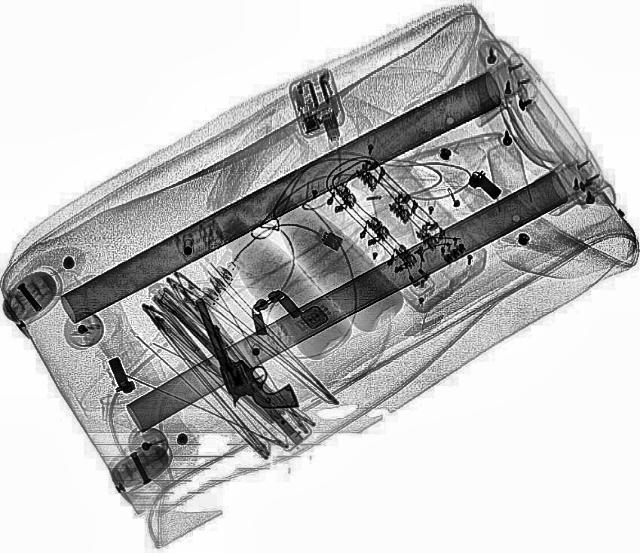Gun: (193, 286, 297, 418)
